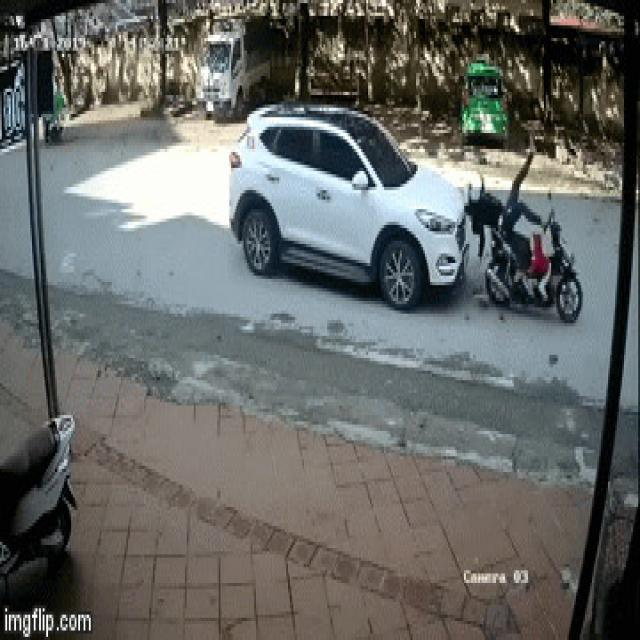multiple_accident: (221, 87, 588, 333)
